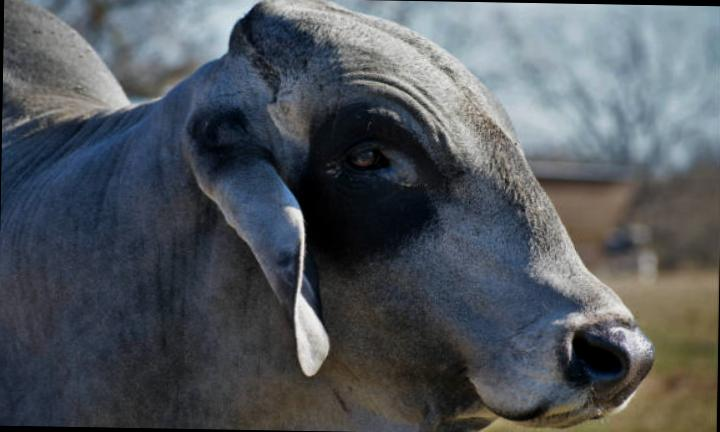Brahman: (0, 0, 653, 432)
